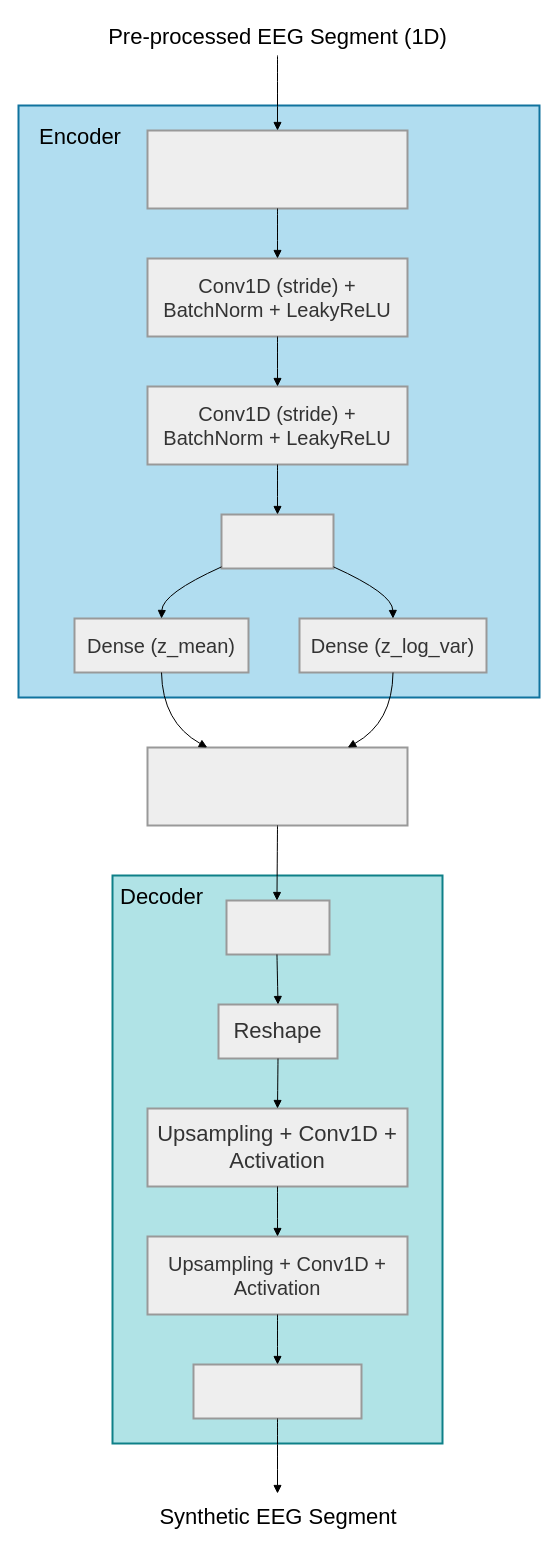
Image size: 557x1554. Some labels were removed from this diagram. The centre of each missing label's shape, as x and y in pixels:
"Conv1D + BatchNorm + LeakyReLU" belongs at (x=277, y=169).
"Conv1D Output" belongs at (x=277, y=1391).
"Dense" belongs at (x=277, y=927).
"Flatten" belongs at (x=277, y=541).
"Reparameterization (z = μ + σ ⊙ ε)" belongs at (x=277, y=786).
